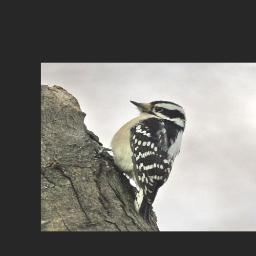Woodpecker: (84, 97, 189, 227)
